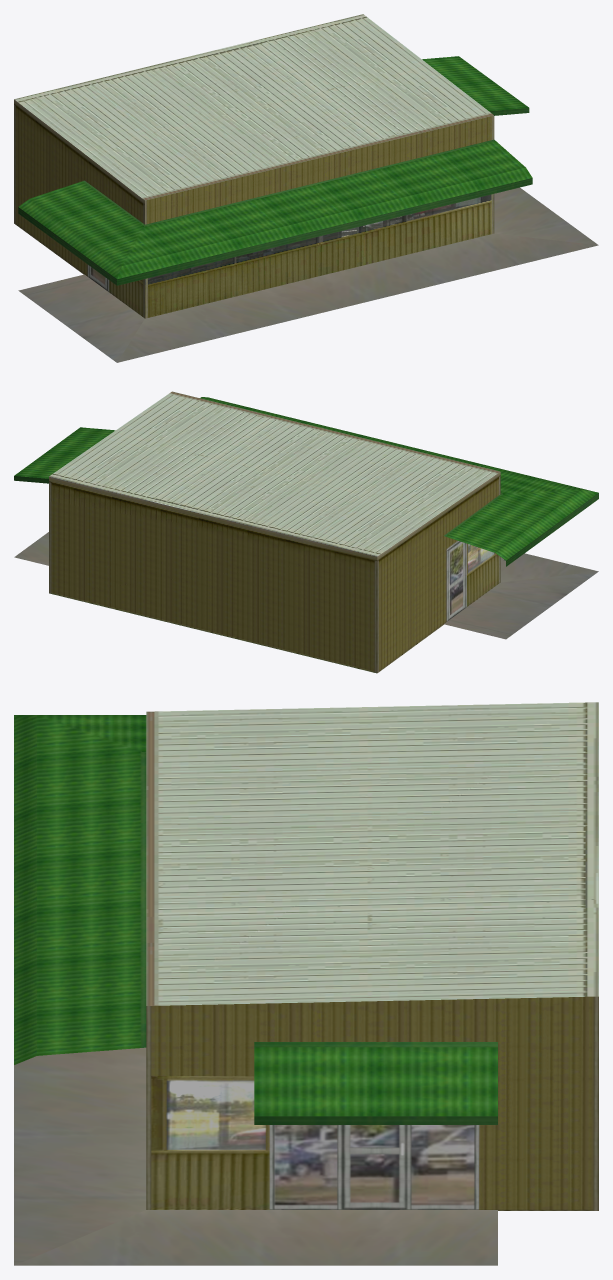
Rendered from terminal-tiny-02-10x7-cbj_LOD01.gltf.
The picture shows the model from 3 angles, top to bottom: view 1: azimuth 30°, elevation 25°; view 2: azimuth 150°, elevation 25°; view 3: azimuth 270°, elevation 25°; orthographic projection. The views are drawn at different scales.
Parts seen in each view (by area): view 1: Sketchup01; view 2: Sketchup01; view 3: Sketchup01.
Part boxes in pixels (bbox=[...]): Sketchup01: bbox=[14, 14, 598, 362]; Sketchup01: bbox=[14, 391, 598, 673]; Sketchup01: bbox=[14, 702, 598, 1265].
Size of the model in its own units: 13.8 by 3.4 by 8.4.
